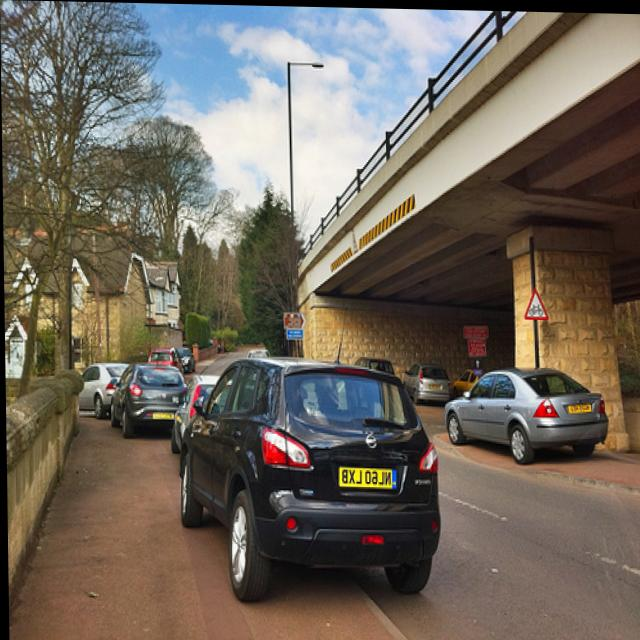licence: (335, 459, 397, 488)
